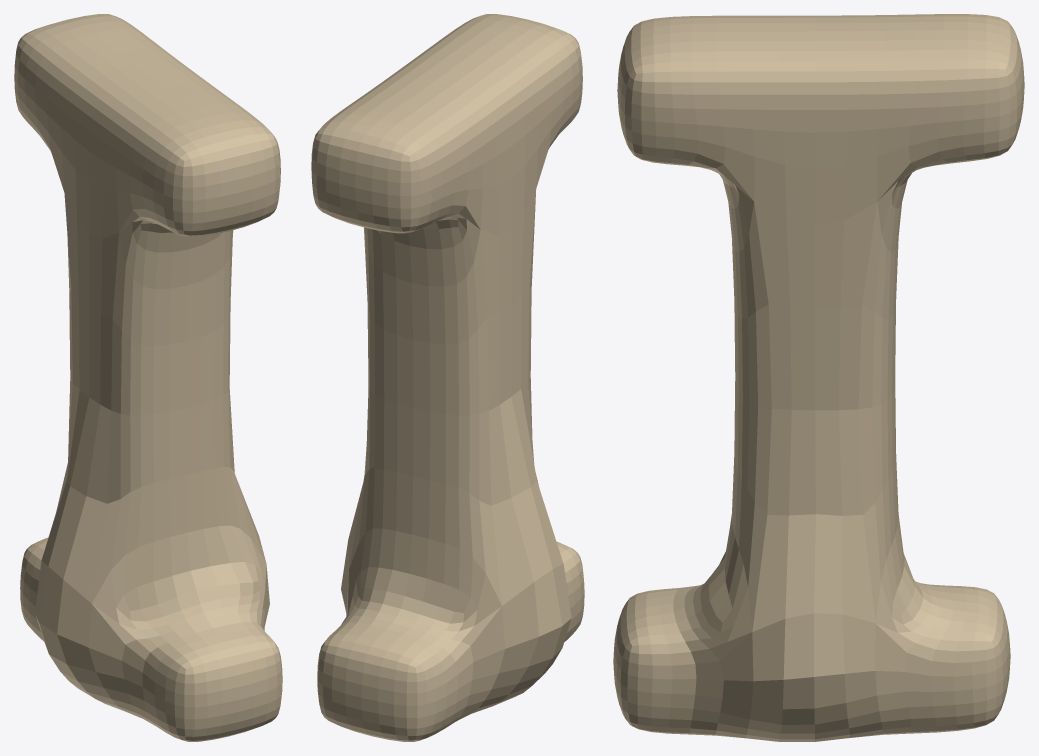
The model's file is LineTest2.glb.
The picture shows the model from 3 angles, left to right: view 1: azimuth 30°, elevation 25°; view 2: azimuth 150°, elevation 25°; view 3: azimuth 270°, elevation 25°; orthographic projection. The views are drawn at different scales.
Visible parts, largest first — view 1: Cube.001; view 2: Cube.001; view 3: Cube.001.
Boxes of the visible parts, bbox=[...] form: Cube.001: bbox=[14, 14, 282, 741]; Cube.001: bbox=[311, 14, 584, 741]; Cube.001: bbox=[613, 14, 1024, 741].
Size of the model in its own units: 3.51 by 9.51 by 5.14.
